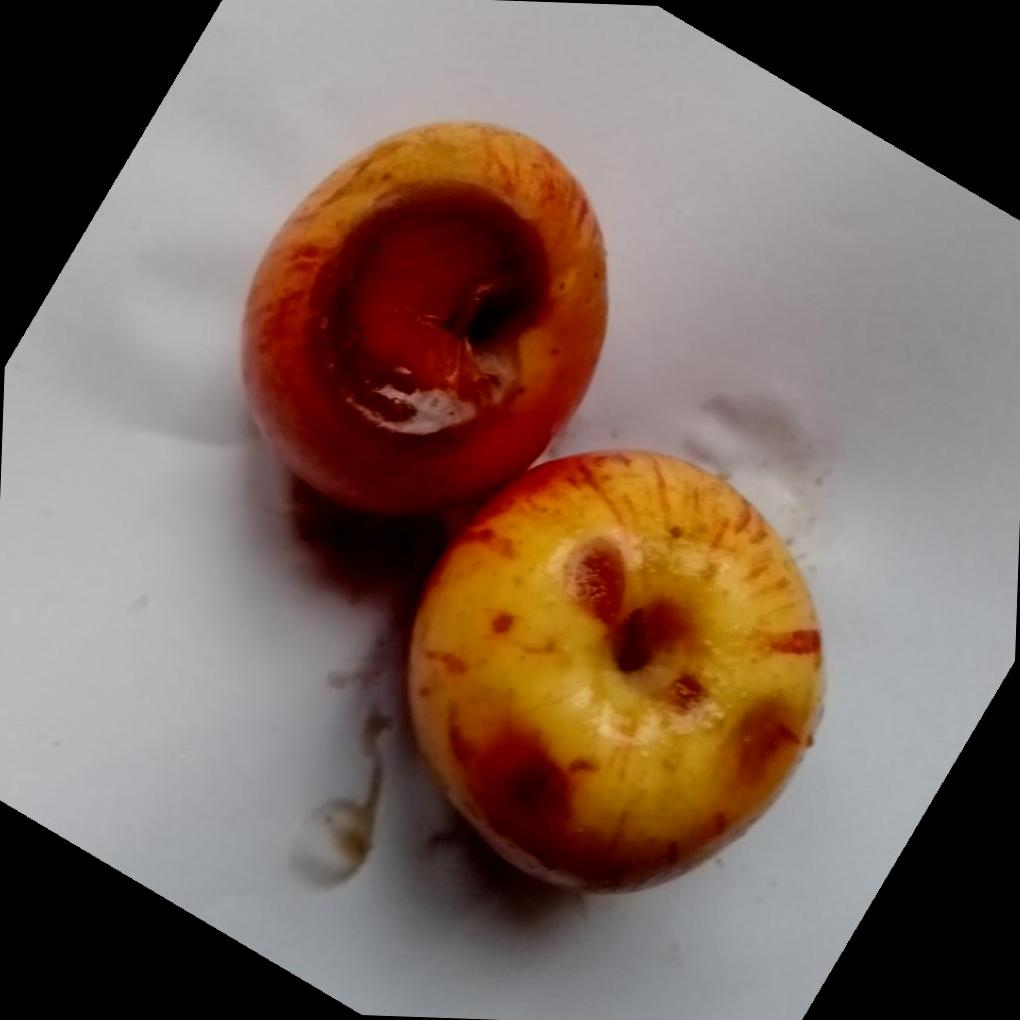FreshOrange: (241, 121, 827, 895)
